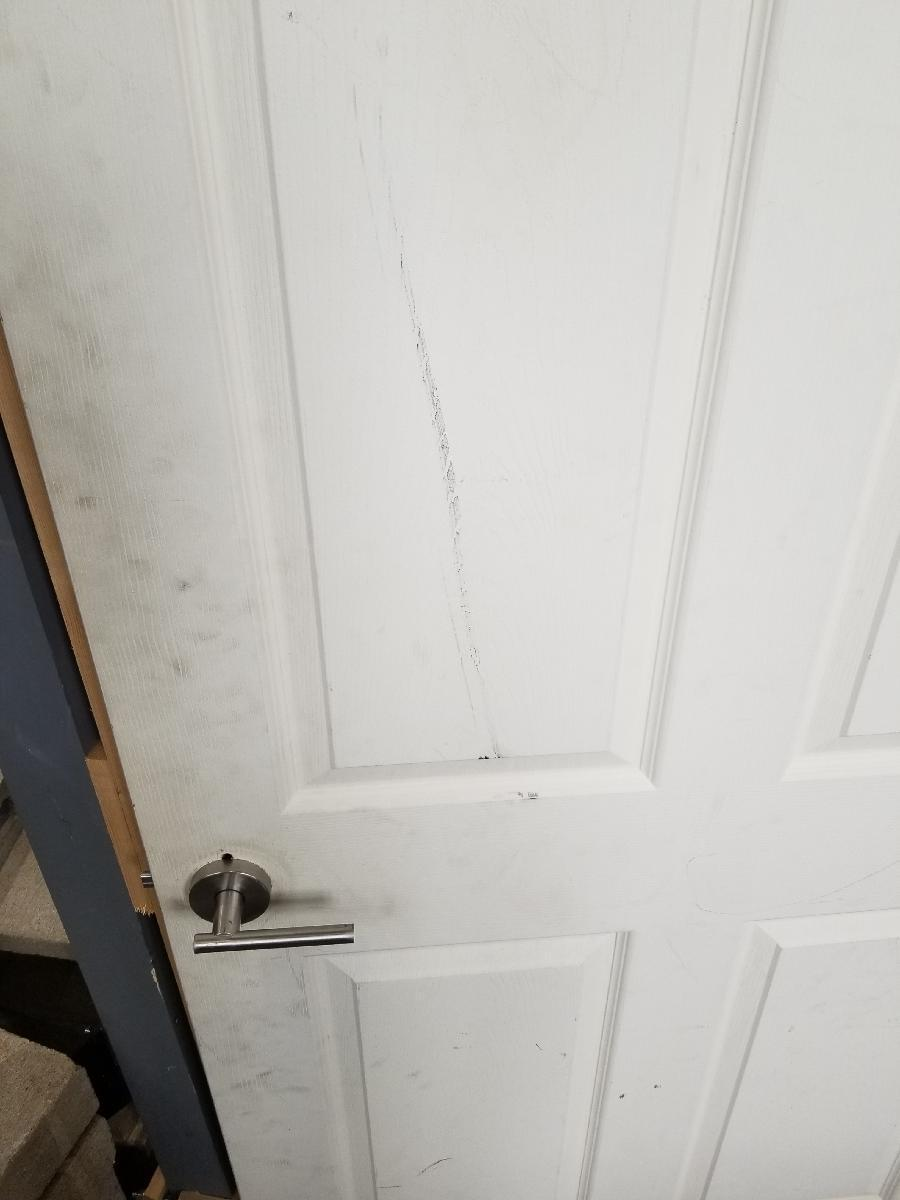door: (246, 0, 900, 1196)
handle: (176, 853, 362, 965)
